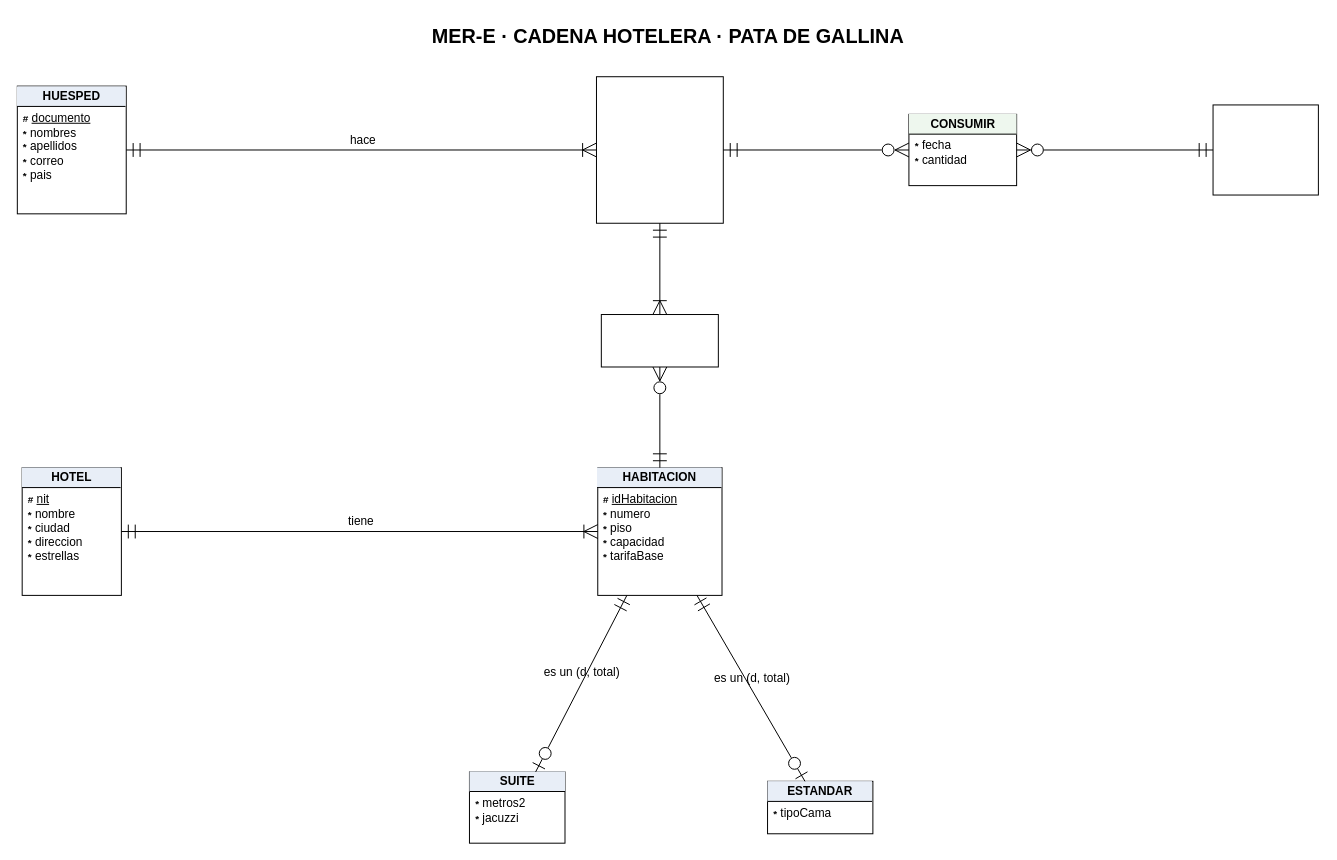
Some shapes in this 1337 by 860 pixel diagram are drawn without their labels. Here are the shapes that lost their labels. From the top down, the centre of each, then its label:
At pixel 659 149: "RESERVA # codigo * fechaReserva * fechaEntrada * fechaSalida / noches * estado".
At pixel 1265 149: "SERVICIO # idServicio * nombre * precio".
At pixel 659 340: "ALOJAR * tarifaNoche".
